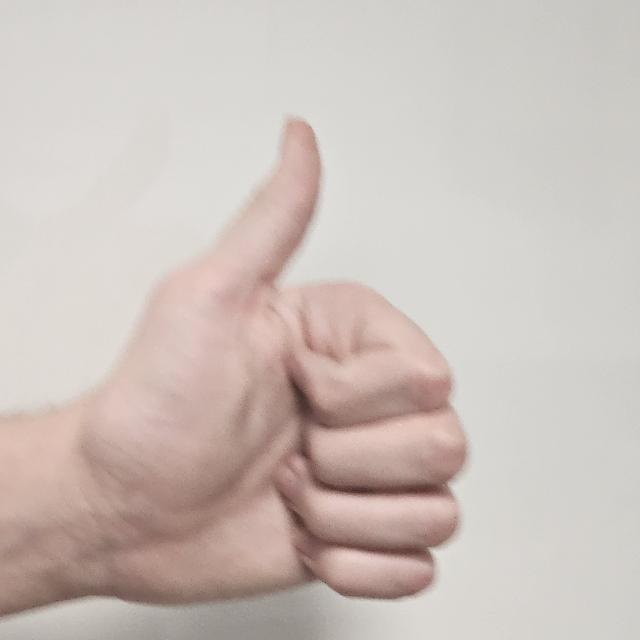Start: (110, 111, 464, 609)
